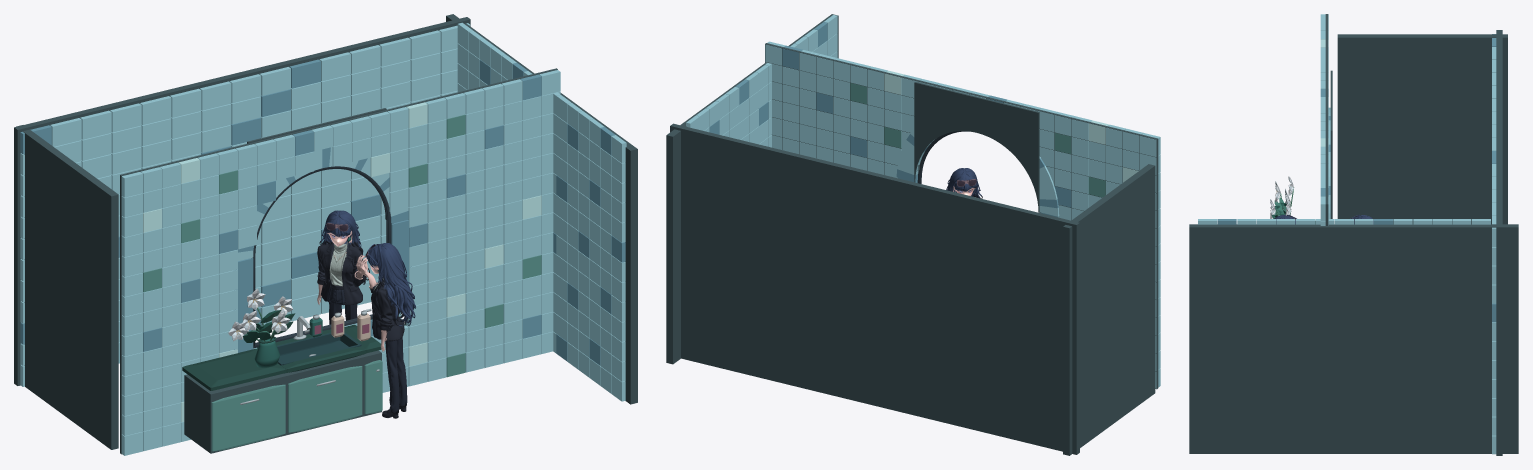
3 renders of one model, left to right at view 1: azimuth 30°, elevation 25°; view 2: azimuth 150°, elevation 25°; view 3: azimuth 270°, elevation 25°, orthographic. The views are drawn at different scales.
Parts seen in each view (by area): view 1: Separate square wall tiles / pale tile, Reflected square tiling / pale tile, Tile side return / joint grout, Cold right return tiles / pale tile, Glazed vanity doors / green tile, Tripo | Mirror subject, Rear grout / joint grout, Reflected square tiling / blue tile, Tripo | Linked reflection, Separate square wall tiles / blue tile, Vanity cabinet / joint grout, Solid vanity ledges / deep teal (+11 smaller); view 2: Rear grout / joint grout, Tile side return / joint grout, Separate square wall tiles / pale tile, Solid arch spandrel backing / joint grout, Cold right return tiles / pale tile, Grout under wall rows / joint grout, Separate square wall tiles / blue tile, Separate square wall tiles / green tile, Cut ceramic arch returns / pale tile, Separate square wall tiles / pearl tile, Tripo | Mirror subject, Cold right return tiles / blue tile; view 3: Tile side return / joint grout, Rear grout / joint grout, Reflected square tiling / pale tile, Cold right return tiles / pale tile, Separate square wall tiles / pale tile, Grout under wall rows / joint grout, Solid arch spandrel backing / joint grout.
Part boxes in pixels (x1,y1,x2,y2): Separate square wall tiles / pale tile: (121, 70, 560, 455); Reflected square tiling / pale tile: (20, 23, 470, 386); Tile side return / joint grout: (16, 14, 637, 449); Cold right return tiles / pale tile: (457, 22, 626, 401); Glazed vanity doors / green tile: (211, 360, 382, 451); Tripo | Mirror subject: (359, 243, 415, 418); Rear grout / joint grout: (14, 17, 470, 385); Reflected square tiling / blue tile: (20, 59, 380, 344); Tripo | Linked reflection: (317, 210, 369, 324); Separate square wall tiles / blue tile: (143, 74, 541, 351); Vanity cabinet / joint grout: (184, 350, 381, 453); Solid vanity ledges / deep teal: (182, 324, 381, 390); Rear grout / joint grout: (670, 123, 1079, 454); Tile side return / joint grout: (666, 14, 1155, 455); Separate square wall tiles / pale tile: (765, 41, 1160, 388); Solid arch spandrel backing / joint grout: (914, 82, 1039, 212); Cold right return tiles / pale tile: (686, 15, 837, 147); Grout under wall rows / joint grout: (765, 43, 1158, 389); Separate square wall tiles / blue tile: (782, 45, 1071, 207); Separate square wall tiles / green tile: (850, 83, 1105, 197); Cut ceramic arch returns / pale tile: (897, 129, 1059, 216); Separate square wall tiles / pearl tile: (884, 70, 1138, 182); Tripo | Mirror subject: (946, 168, 982, 198); Cold right return tiles / blue tile: (709, 22, 827, 134); Tile side return / joint grout: (1189, 34, 1518, 453); Rear grout / joint grout: (1496, 30, 1502, 455); Reflected square tiling / pale tile: (1492, 47, 1496, 454); Cold right return tiles / pale tile: (1198, 219, 1490, 224); Separate square wall tiles / pale tile: (1320, 14, 1328, 225); Grout under wall rows / joint grout: (1325, 14, 1328, 225); Solid arch spandrel backing / joint grout: (1330, 70, 1332, 218).
Size of what is drawn, in the model's own units: 7.4 by 4.34 by 5.22.
21 materials, 1 textured.
